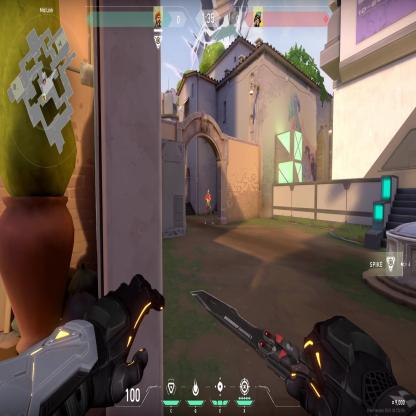enemy: (204, 188, 214, 225)
